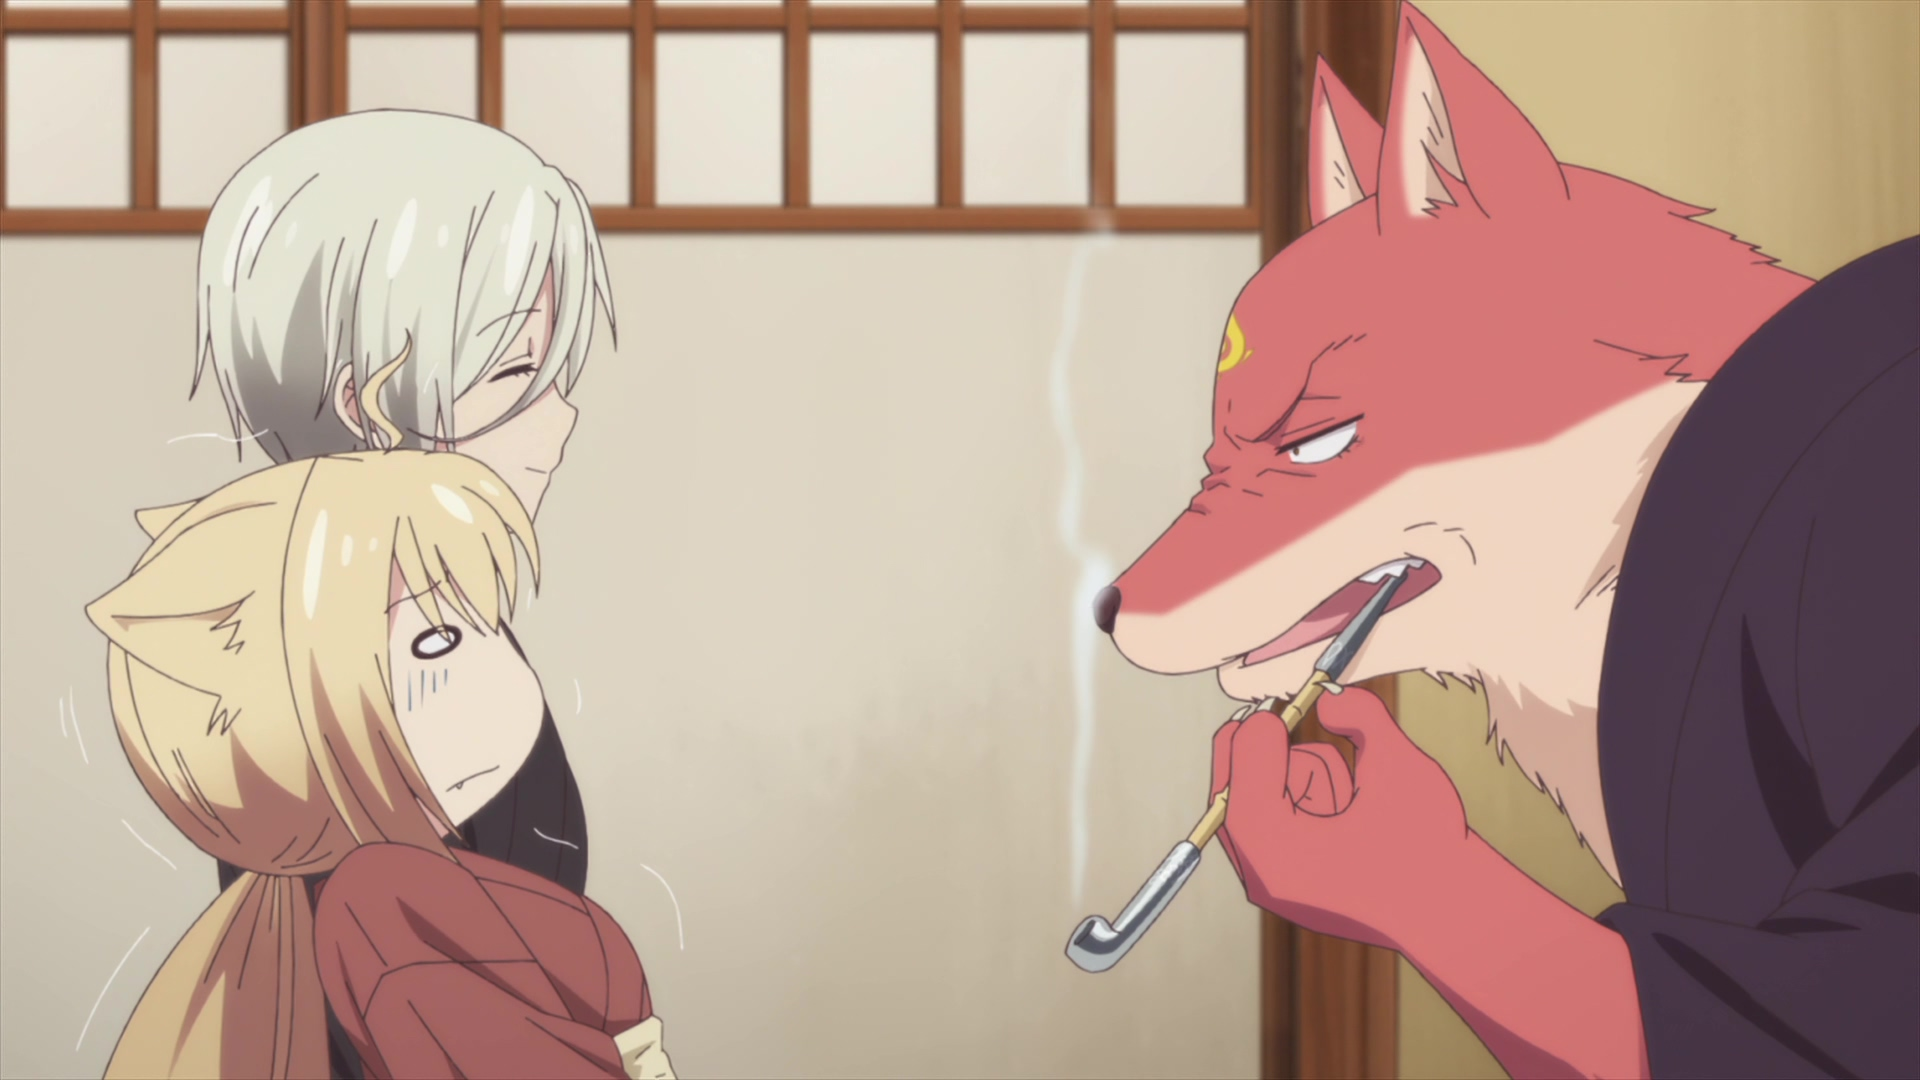八百比丘尼: (189, 111, 617, 1080)
柚: (83, 327, 675, 1080)
椿: (1092, 1, 1920, 1080)
